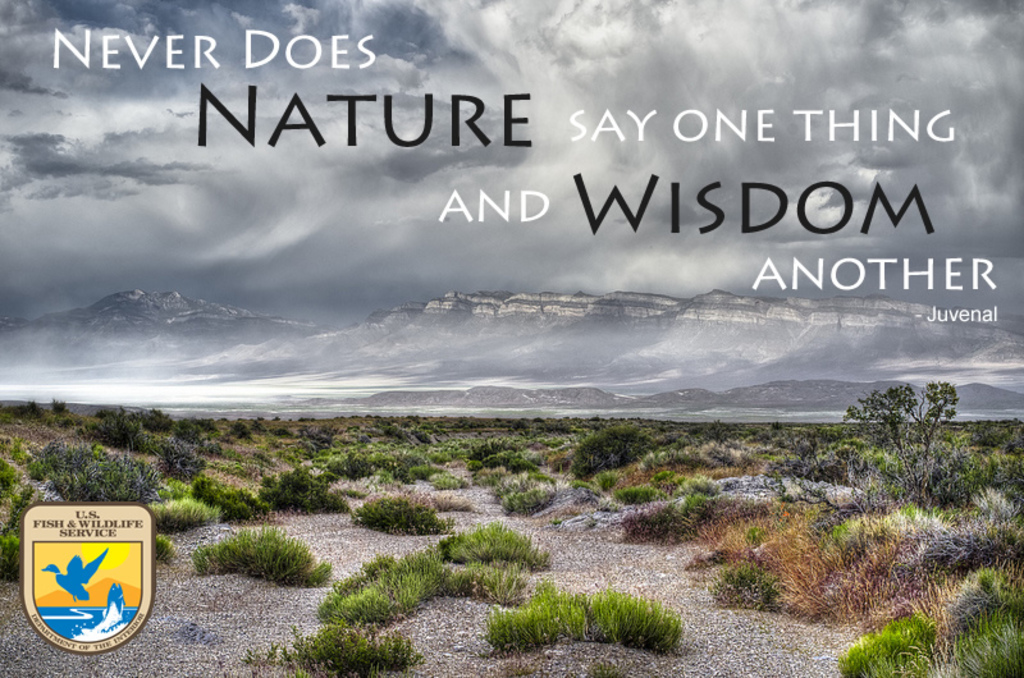Tree: (847, 365, 961, 477)
